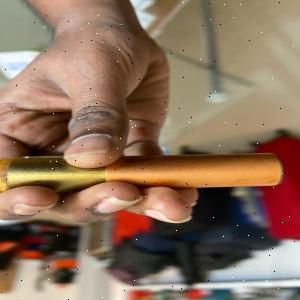Golden-E-Ciggirate: (0, 151, 290, 197)
